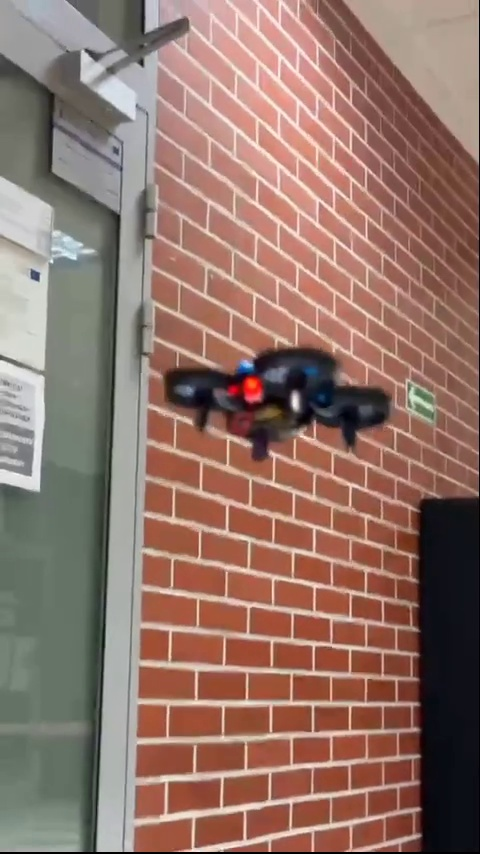drone: (170, 345, 384, 463)
